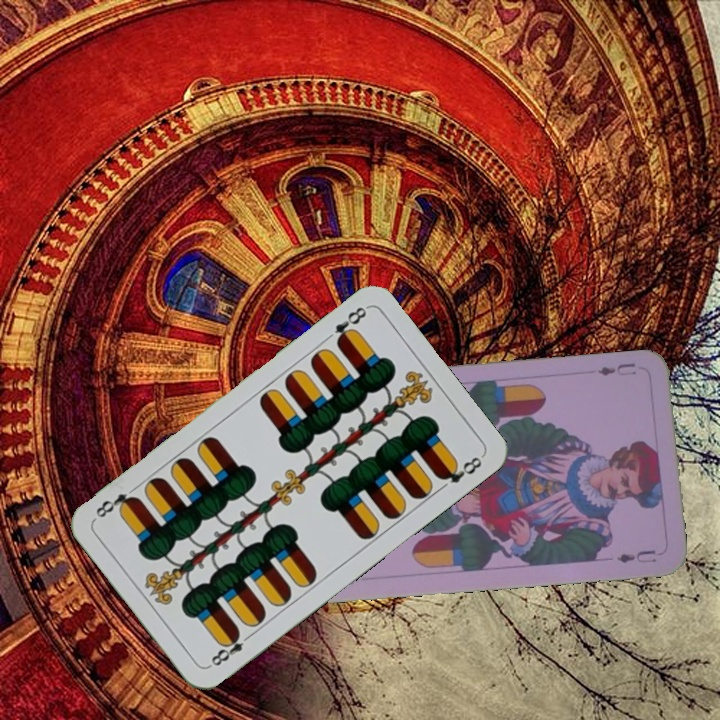E8: (205, 627, 256, 670), (330, 302, 370, 349)
EU: (593, 359, 639, 379)
